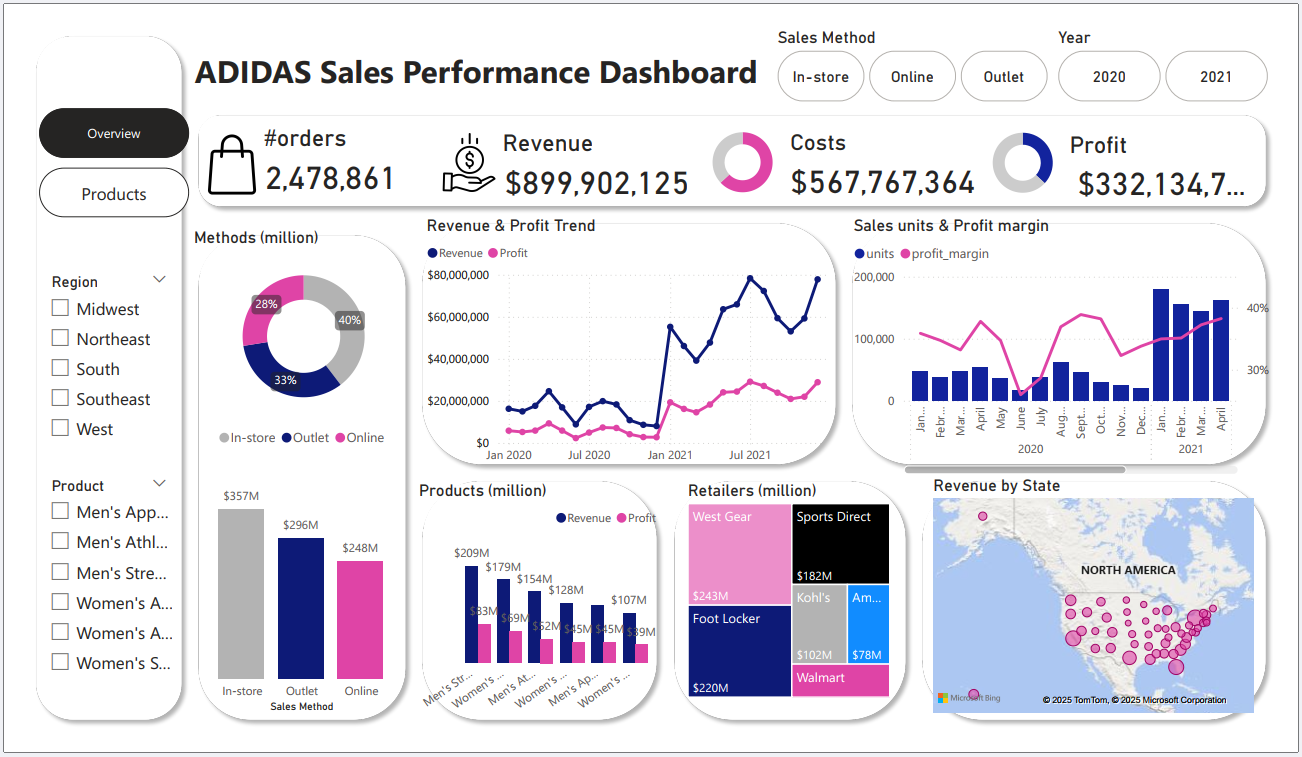

Layout of this report page (visuals, bound fields, positions):
{"tool":"powerbi","page":{"name":"Overview","canvas":[1280,720],"ordinal":0},"visuals":[{"type":"shape","box":[0,0,166.7,719.7],"z":0},{"type":"shape","box":[166.7,81.7,1113.3,111.7],"z":1000},{"type":"shape","box":[396.7,193.3,441.7,263.3],"z":2000},{"type":"shape","box":[838.3,193.3,441.7,263.3],"z":3000},{"type":"shape","box":[166.7,205,230,515],"z":4000},{"type":"shape","box":[910,456.7,370,263.3],"z":5000},{"type":"shape","box":[396.7,456.7,258.3,263.3],"z":6000},{"type":"shape","box":[655,456.7,255,263.3],"z":7000},{"type":"textbox","box":[166.7,16.7,611.7,65],"z":8000},{"type":"card","title":"#orders","fields":{"Values":["Sum(adi.Units Sold)"]},"box":[238.3,100,146.7,76.7],"z":9000},{"type":"card","title":"Revenue","fields":{"Values":["Sum(adi.Total Sales)"]},"box":[483.3,105,203.3,76.7],"z":10000},{"type":"lineChart","title":"Revenue & Profit Trend","fields":{"Category":["adi.Invoice Date.Variation.Date Hierarchy.Year","adi.Invoice Date.Variation.Date Hierarchy.Month"],"Y":["adi.Revenue","adi.Profit"]},"box":[405,193.3,433.3,263.3],"z":11000},{"type":"lineStackedColumnComboChart","title":"Sales units & Profit margin","fields":{"Category":["adi.Invoice Date.Variation.Date Hierarchy.Year","adi.Invoice Date.Variation.Date Hierarchy.Month"],"Y2":["adi.profit_margin"],"Y":["adi.units"]},"box":[843.3,193.3,436.7,270],"z":12000},{"type":"card","title":"Profit","fields":{"Values":["Sum(adi.Operating Profit)"]},"box":[1065,106.7,198.3,76.7],"z":13000},{"type":"card","title":"Costs","fields":{"Values":["adi.costs"]},"box":[778.3,105,200,76.7],"z":14000},{"type":"image","box":[170,105,80,71.7],"z":15000},{"type":"image","box":[418.3,100,70,76.7],"z":16000},{"type":"donutChart","fields":{"Y":["adi.cost","Sum(adi.Operating Profit)"]},"box":[690,95,88.3,86.7],"z":17000},{"type":"donutChart","fields":{"Y":["Sum(adi.Operating Profit)","adi.cost"]},"box":[978.3,95,86.7,88.3],"z":18000},{"type":"treemap","title":"Retailers (million)","fields":{"Group":["adi.Retailer"],"Values":["adi.Revenue"]},"box":[673.3,465,216.7,228.3],"z":19000},{"type":"clusteredColumnChart","title":"Products (million)","fields":{"Category":["adi.Product"],"Y":["adi.Revenue","adi.Profit"]},"box":[396.7,465,258.3,248.3],"z":20000},{"type":"map","title":"Revenue by State","fields":{"Category":["adi.State"],"Size":["adi.Revenue"]},"box":[925,460,338.3,248.3],"z":21000},{"type":"donutChart","title":"Methods (million)","fields":{"Category":["adi.Sales Method"],"Y":["adi.Revenue"]},"box":[166,205,230,230],"z":22000},{"type":"clusteredColumnChart","fields":{"Category":["adi.Sales Method"],"Y":["adi.Revenue"]},"box":[166.7,456.7,230,251.7],"z":23000},{"type":"slicer","fields":{"Values":["adi.Region"]},"box":[12.1,247,142.4,187.9],"z":24000},{"type":"slicer","fields":{"Values":["adi.Product"]},"box":[12.1,456.1,142.4,237.9],"z":25000},{"type":"advancedSlicerVisual","fields":{"Values":["adi.Invoice Date.Variation.Date Hierarchy.Year"]},"box":[1053.3,0,226.7,81.7],"z":26000},{"type":"advancedSlicerVisual","fields":{"Values":["adi.Sales Method"]},"box":[765,0,288.3,81.7],"z":27000},{"type":"pageNavigator","box":[12.1,83.3,154.5,112.1],"z":28000}]}

Visuals, with their boxes on the page's 1280x720 design canvas (x1, y1, x2, y2). These are canvas units, not pixel positions in the 1302x757 screenshot, which may show the page scaled, cropped or inside an application window:
shape: <box>0,0,167,720</box>
shape: <box>167,82,1280,193</box>
shape: <box>397,193,838,457</box>
shape: <box>838,193,1280,457</box>
shape: <box>167,205,397,720</box>
shape: <box>910,457,1280,720</box>
shape: <box>397,457,655,720</box>
shape: <box>655,457,910,720</box>
textbox: <box>167,17,778,82</box>
"#orders" card: <box>238,100,385,177</box>
"Revenue" card: <box>483,105,687,182</box>
"Revenue & Profit Trend" lineChart: <box>405,193,838,457</box>
"Sales units & Profit margin" lineStackedColumnComboChart: <box>843,193,1280,463</box>
"Profit" card: <box>1065,107,1263,183</box>
"Costs" card: <box>778,105,978,182</box>
image: <box>170,105,250,177</box>
image: <box>418,100,488,177</box>
donutChart - adi.cost x Sum(adi.Operating Profit): <box>690,95,778,182</box>
donutChart - Sum(adi.Operating Profit) x adi.cost: <box>978,95,1065,183</box>
"Retailers (million)" treemap: <box>673,465,890,693</box>
"Products (million)" clusteredColumnChart: <box>397,465,655,713</box>
"Revenue by State" map: <box>925,460,1263,708</box>
"Methods (million)" donutChart: <box>166,205,396,435</box>
clusteredColumnChart - adi.Sales Method x adi.Revenue: <box>167,457,397,708</box>
slicer - adi.Region: <box>12,247,154,435</box>
slicer - adi.Product: <box>12,456,154,694</box>
advancedSlicerVisual - adi.Invoice Date.Variation.Date Hierarchy.Year: <box>1053,0,1280,82</box>
advancedSlicerVisual - adi.Sales Method: <box>765,0,1053,82</box>
pageNavigator: <box>12,83,167,195</box>
